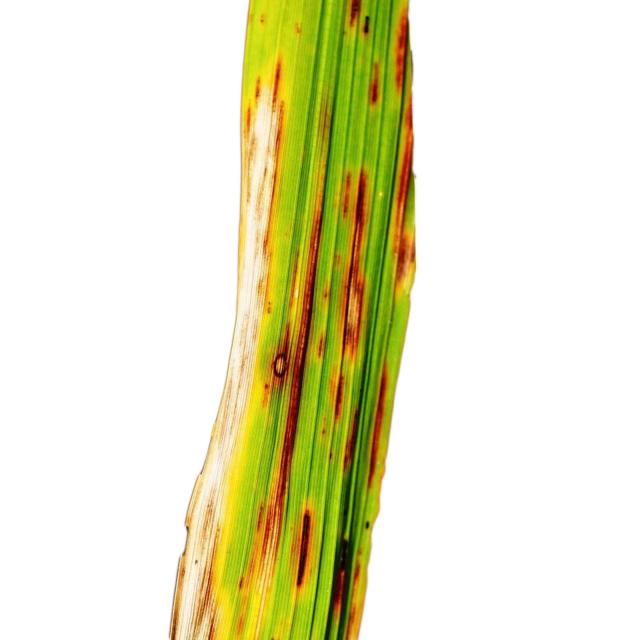Narrow brown: (132, 0, 584, 640)
